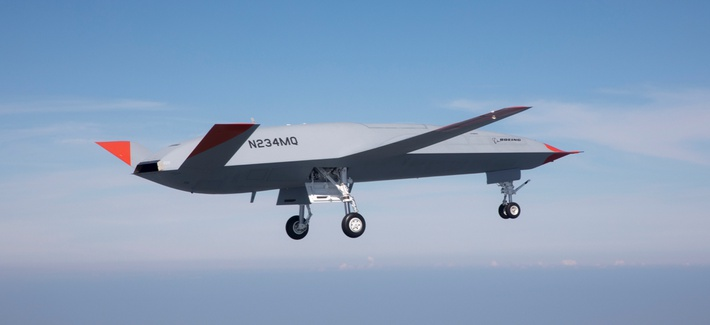drone: (89, 97, 594, 248)
